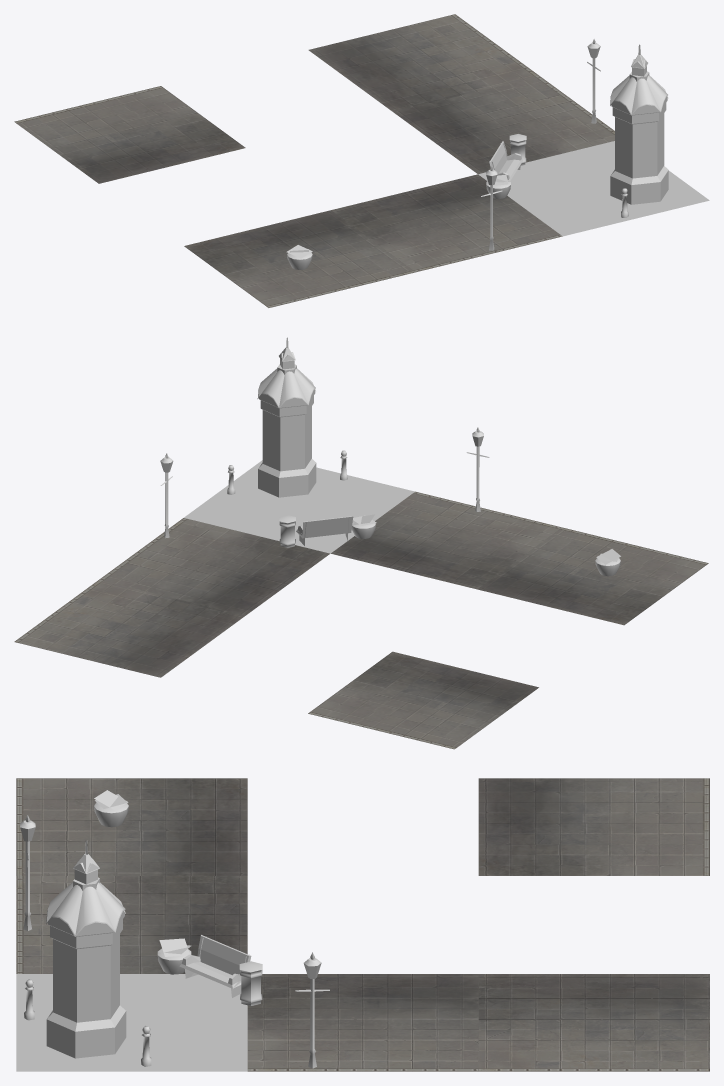
File: propsonly_c4.gltf
3 views of the same model, one above another, from view 1: azimuth 30°, elevation 25°; view 2: azimuth 150°, elevation 25°; view 3: azimuth 270°, elevation 25° (orthographic). The views are drawn at different scales.
Parts seen in each view (by area): view 1: file_c4_endr.002, file_c4_endl.004, file_c4_center3.001, file_c4_endl.003, file_c4_center3.003, file_c4_corner4.001, prop_advertiser_c4_1, prop_bench_c4, prop_flowerpot_c4_1; view 2: file_c4_endr.002, file_c4_endl.004, file_c4_center3.003, file_c4_center3.001, file_c4_endl.003, file_c4_corner4.001, prop_advertiser_c4_1, prop_bench_c4; view 3: file_c4_endr.002, file_c4_endl.004, file_c4_center3.003, file_c4_endl.003, file_c4_corner4.001, file_c4_center3.001, prop_advertiser_c4_1, prop_bench_c4, prop_flowerpot_c4_1, prop_flowerpot_c4_2, prop_trashcan_c4_1, prop_lightpost_c4_2 (+1 smaller).
Part boxes in pixels (x1,y1,x2,y2): file_c4_endr.002: [308, 14, 539, 111]; file_c4_endl.004: [14, 86, 245, 183]; file_c4_center3.001: [331, 174, 562, 272]; file_c4_endl.003: [184, 210, 415, 307]; file_c4_center3.003: [393, 76, 614, 174]; file_c4_corner4.001: [478, 141, 709, 236]; prop_advertiser_c4_1: [610, 44, 668, 204]; prop_bench_c4: [489, 141, 523, 180]; prop_flowerpot_c4_1: [286, 245, 312, 269]; file_c4_endr.002: [14, 580, 245, 677]; file_c4_endl.004: [308, 651, 538, 749]; file_c4_center3.003: [99, 518, 329, 615]; file_c4_center3.001: [331, 491, 561, 589]; file_c4_endl.003: [477, 527, 708, 625]; file_c4_corner4.001: [184, 460, 414, 553]; prop_advertiser_c4_1: [257, 337, 316, 497]; prop_bench_c4: [296, 516, 353, 545]; file_c4_endr.002: [478, 974, 709, 1071]; file_c4_endl.004: [478, 778, 709, 875]; file_c4_center3.003: [247, 974, 478, 1071]; file_c4_endl.003: [16, 778, 247, 875]; file_c4_corner4.001: [16, 974, 247, 1071]; file_c4_center3.001: [16, 876, 247, 973]; prop_advertiser_c4_1: [46, 840, 126, 1058]; prop_bench_c4: [179, 935, 251, 997]; prop_flowerpot_c4_1: [94, 790, 128, 827]; prop_flowerpot_c4_2: [157, 938, 191, 974]; prop_trashcan_c4_1: [239, 961, 262, 1005]; prop_lightpost_c4_2: [295, 952, 329, 1068].
Size of what is drawn, in the model's own units: 3 by 1.01 by 3.01.
